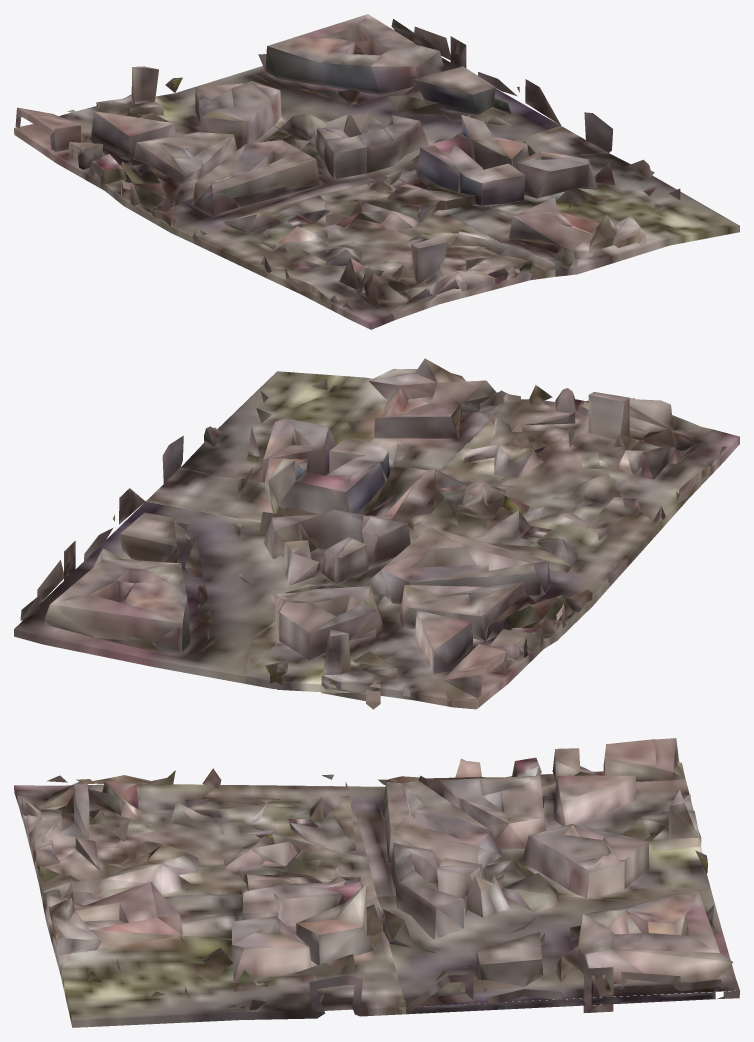
3 views of the same model, one above another, from view 1: azimuth 30°, elevation 25°; view 2: azimuth 150°, elevation 25°; view 3: azimuth 270°, elevation 25° (orthographic). The views are drawn at different scales.
Visible parts, largest first — view 1: Mesh_0; view 2: Mesh_0; view 3: Mesh_0.
Part boxes in pixels (x1,y1,x2,y2): Mesh_0: [14, 14, 739, 329]; Mesh_0: [14, 358, 739, 709]; Mesh_0: [14, 738, 739, 1027].
Bounding box in the file's own units: 532 × 78.95 × 659.
2 materials, 2 textured.
